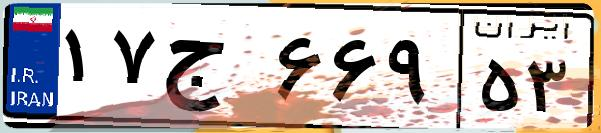1: (57, 26, 110, 100)
3: (525, 38, 570, 115)
5: (475, 38, 525, 113)
6: (270, 28, 330, 110), (330, 28, 385, 110)
7: (110, 28, 158, 98)
9: (385, 28, 445, 110)
ج: (158, 20, 270, 120)
